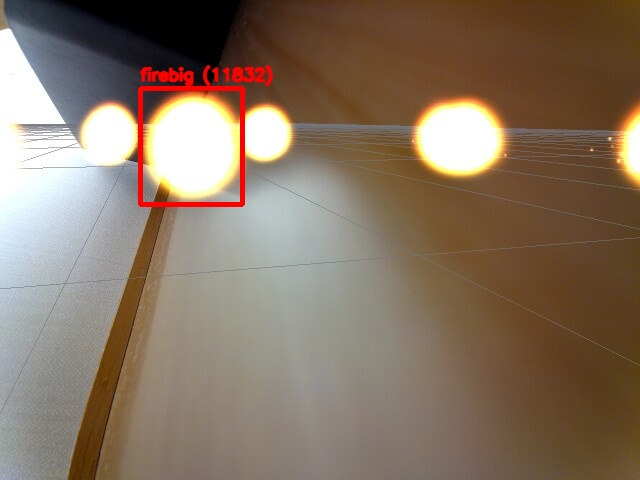firebig: (140, 88, 242, 204)
